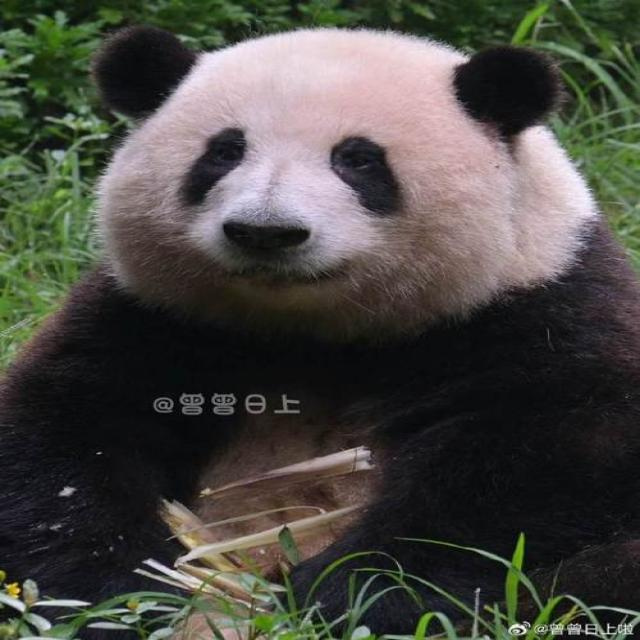panda: (32, 11, 640, 541)
